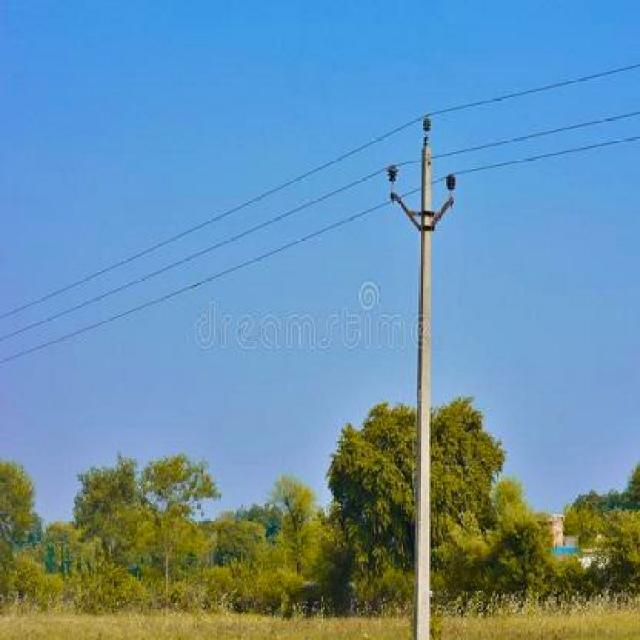crossarm: (386, 163, 457, 234)
pole: (411, 117, 438, 640)
wire: (0, 62, 640, 321), (0, 110, 640, 343), (0, 135, 639, 366)
